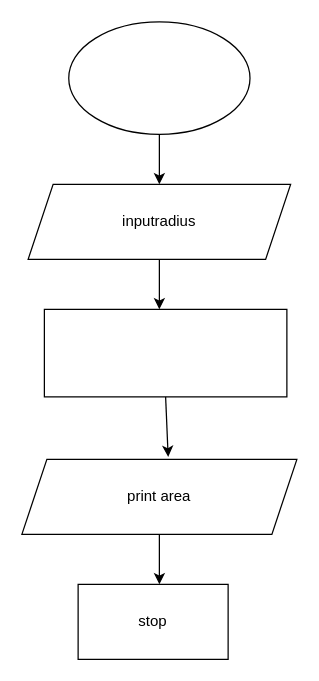
This 319x681 diagram has some shape labels left out. Each missing label, with the box of its shape:
calculate area area=3.14*r*r: (43, 308, 287, 397)
start: (68, 21, 250, 134)
